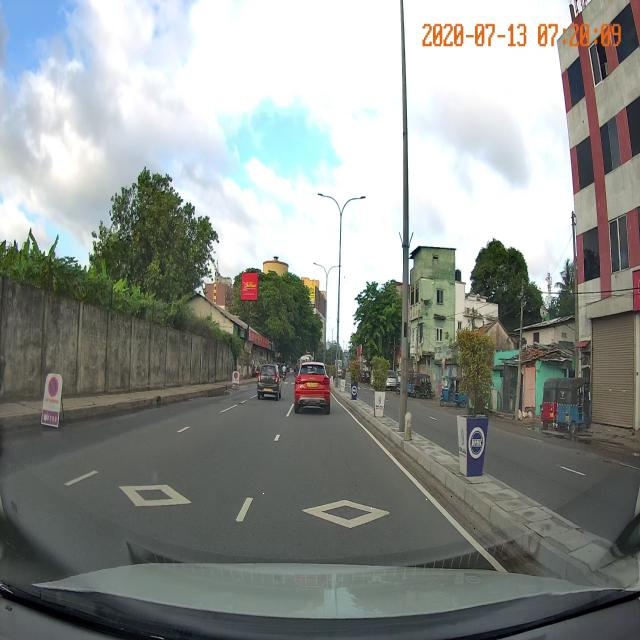diamond: (220, 488, 482, 542)
